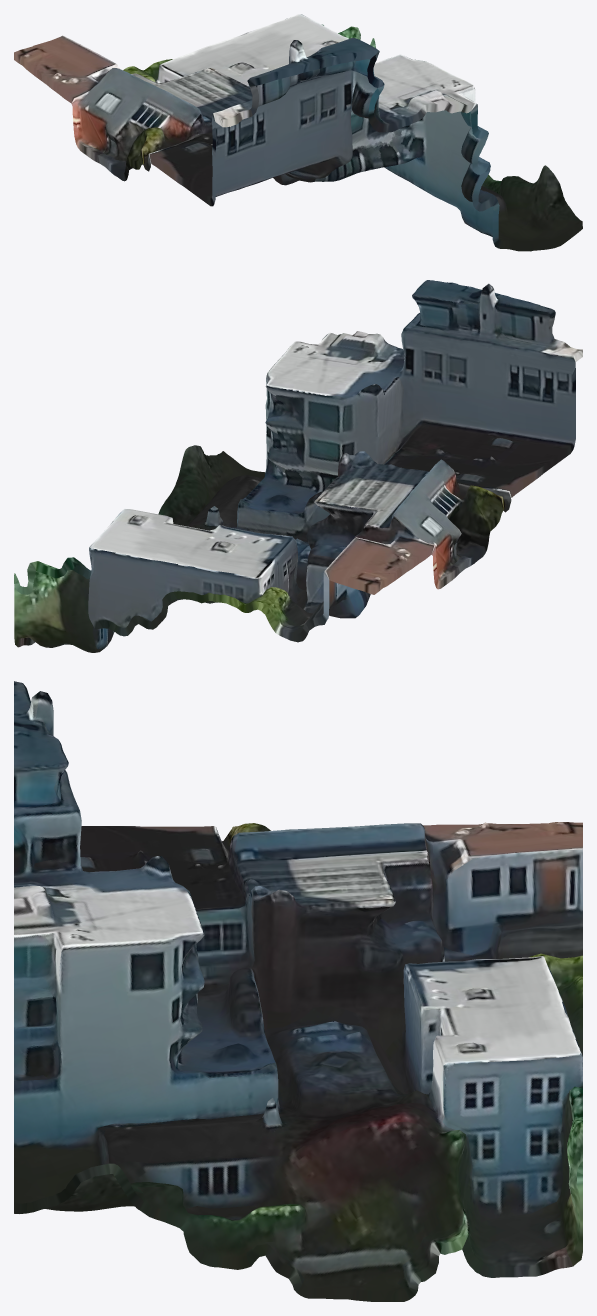
The model's file is z20-167751-405192-h0-yup-uvflip-v3-world.glb.
The picture shows the model from 3 angles, top to bottom: view 1: azimuth 30°, elevation 25°; view 2: azimuth 150°, elevation 25°; view 3: azimuth 270°, elevation 25°; orthographic projection. The views are drawn at different scales.
Size of the model in its own units: 30.2 by 25.16 by 30.32.
Materials: 1 (1 with a texture image).
